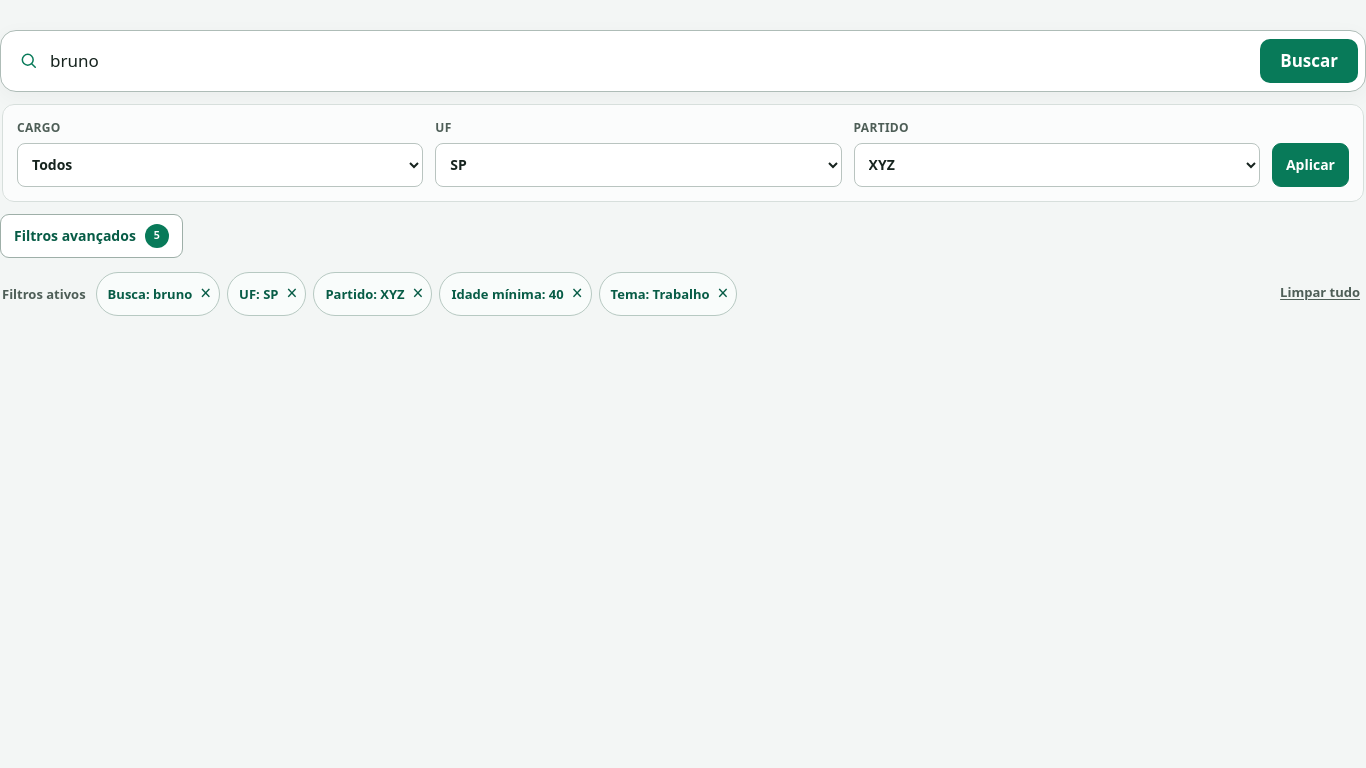
candidate catalog › resynchronizes controlled standard and advanced values after navigation
Expected: the search field named "Buscar candidatos" holds "bruno", [50,38,1249,84]
Expected: the dropdown labelled "UF" shows "SP", [435,143,842,187]
Step 1. Click the button "Filtros avançados 5" → coordinates (91, 236), box [0,214,183,258]
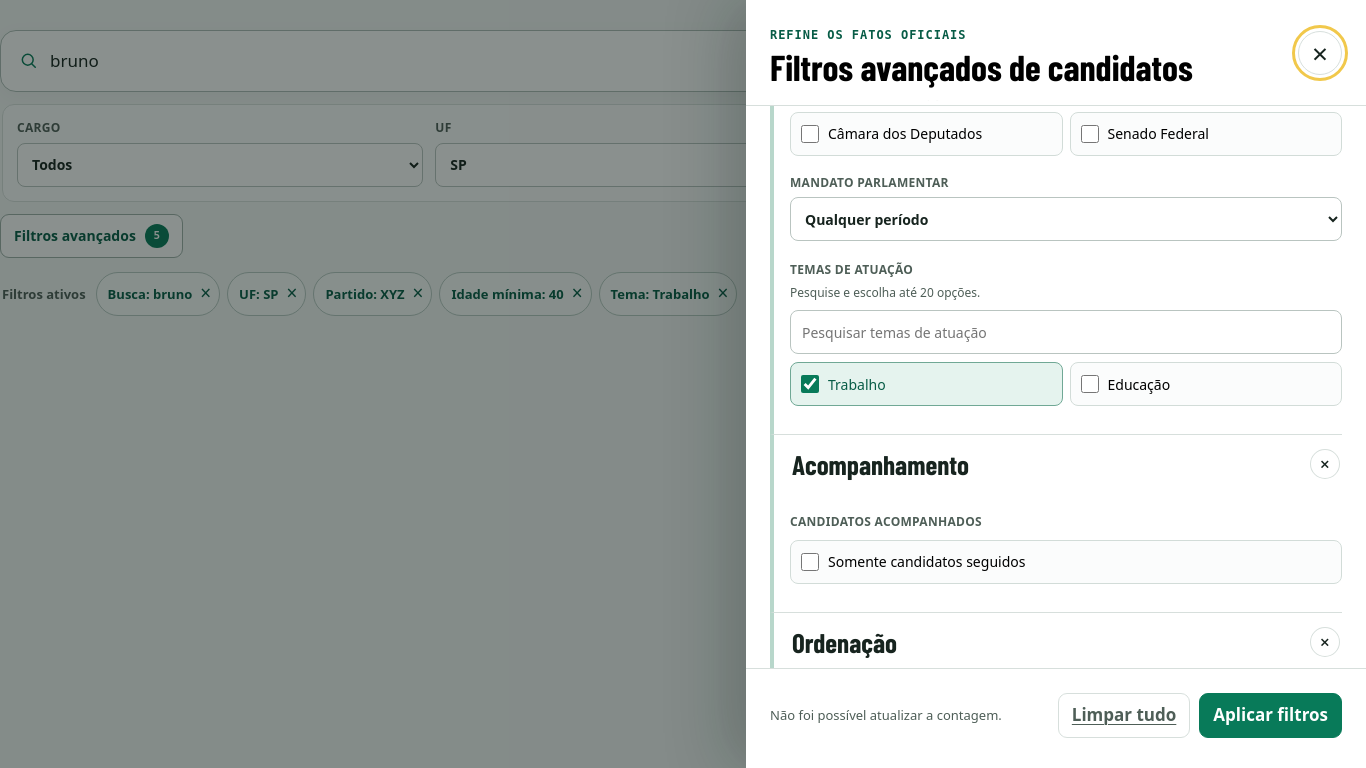
Expected: the checkbox labelled "Trabalho" is checked, [801,375,819,393]
